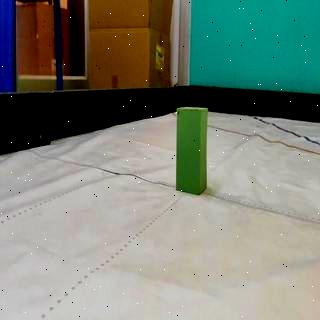greenbox: (175, 106, 209, 196)
